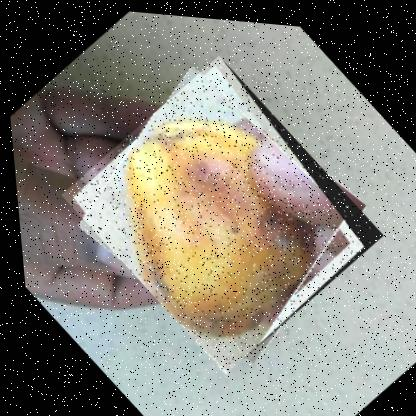guava_rotten: (46, 39, 391, 384)
